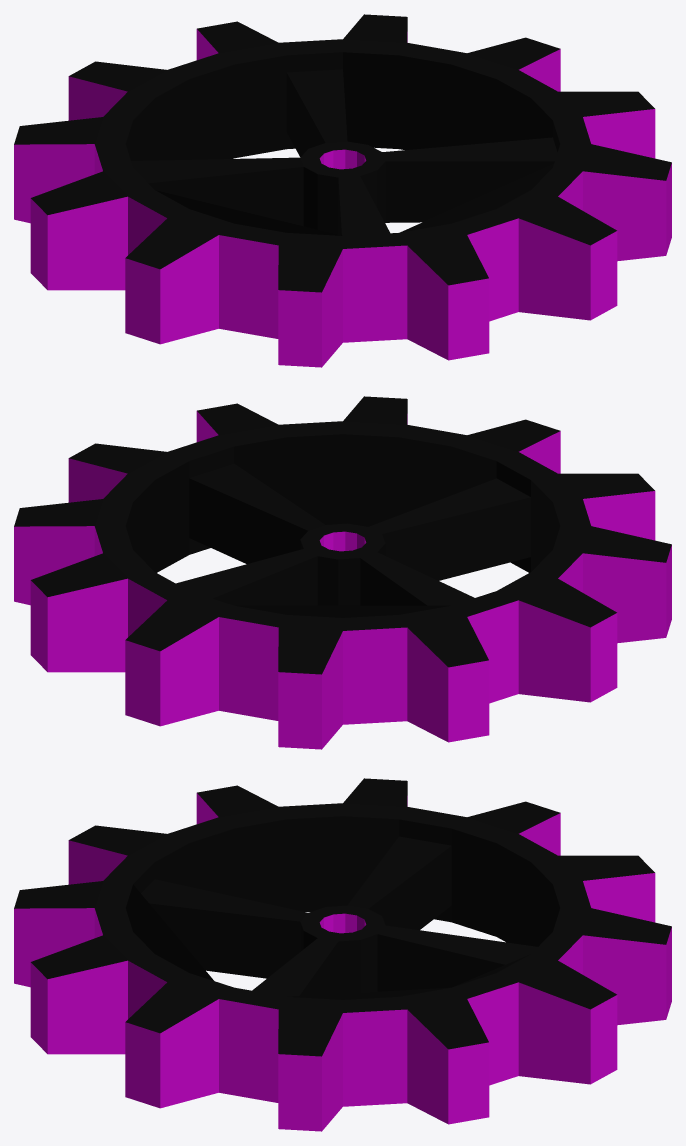
The model's file is D1.2GearV2.fbx.
The picture shows the model from 3 angles, top to bottom: view 1: azimuth 30°, elevation 25°; view 2: azimuth 150°, elevation 25°; view 3: azimuth 270°, elevation 25°; orthographic projection.
Parts seen in each view (by area): view 1: D1_2GearV2; view 2: D1_2GearV2; view 3: D1_2GearV2.
Part boxes in pixels (x1,y1,x2,y2): D1_2GearV2: [14, 14, 671, 367]; D1_2GearV2: [14, 396, 671, 749]; D1_2GearV2: [14, 778, 671, 1131].
Size of the model in its own units: 3.18 by 0.5 by 3.18.
